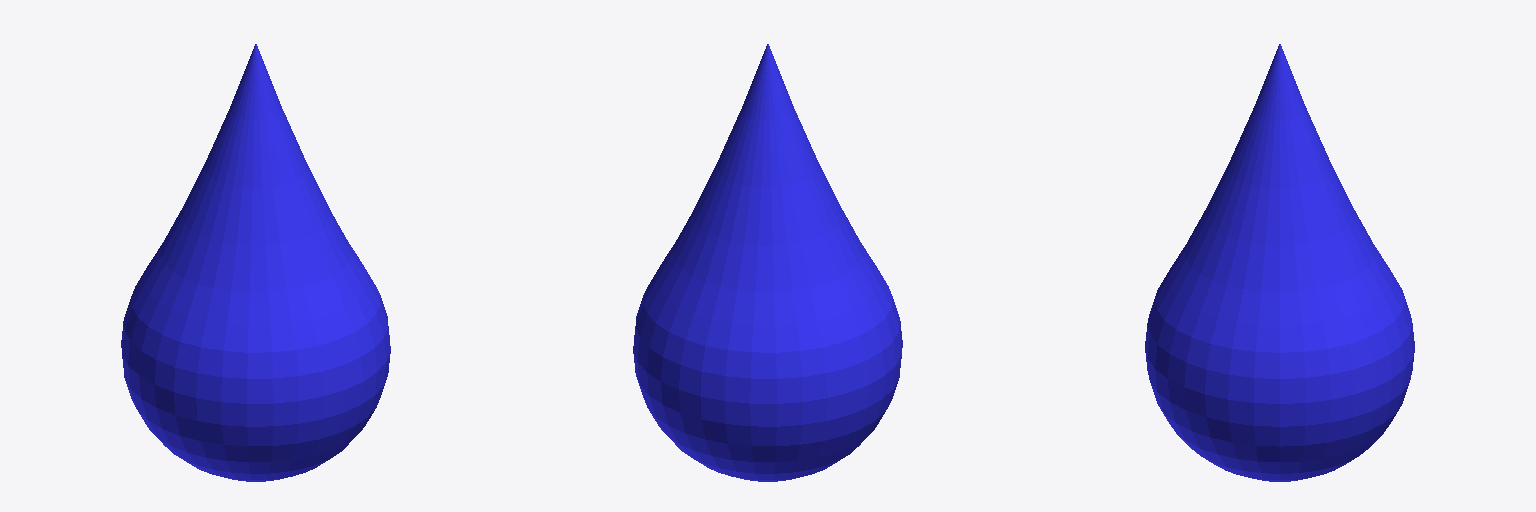
File: drop.obj
3 views of the same model, side by side, from view 1: azimuth 30°, elevation 25°; view 2: azimuth 150°, elevation 25°; view 3: azimuth 270°, elevation 25° (orthographic).
Visible parts, largest first — view 1: 球; view 2: 球; view 3: 球.
Boxes of the visible parts, <box> form: 球: <box>121,44,390,481</box>; 球: <box>633,44,902,481</box>; 球: <box>1145,44,1414,481</box>.
Bounding box in the file's own units: 20 × 34.85 × 20.